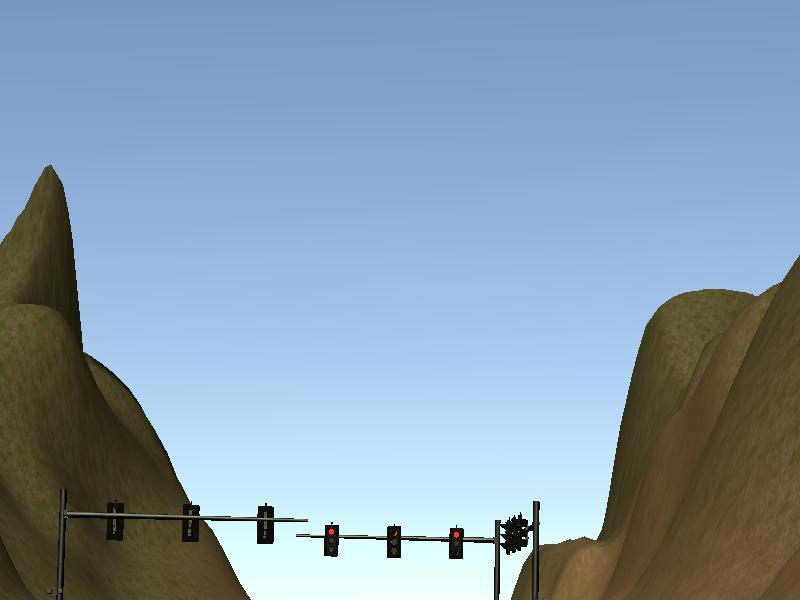Red: (326, 524, 338, 555), (388, 527, 400, 556), (450, 529, 462, 557)
